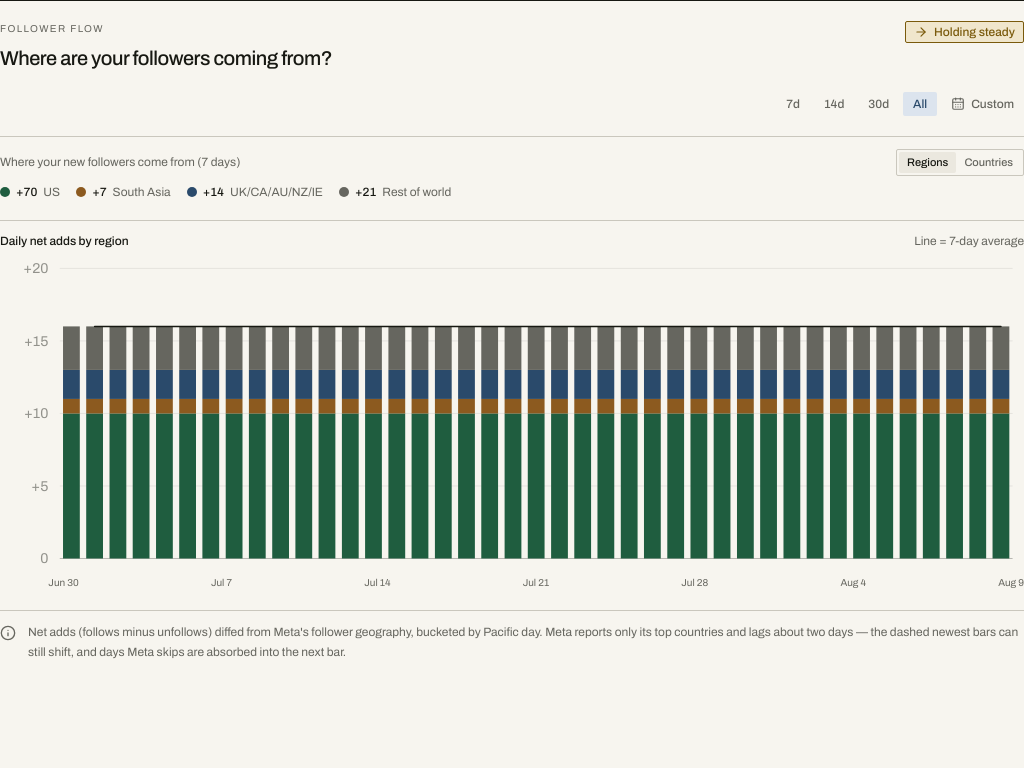
Test: Follower flow date filter › disables calendar days outside real coverage
This screenshot has width=1024, height=768.
Click the button "Custom" at (983, 104), box [941,92,1023,116]
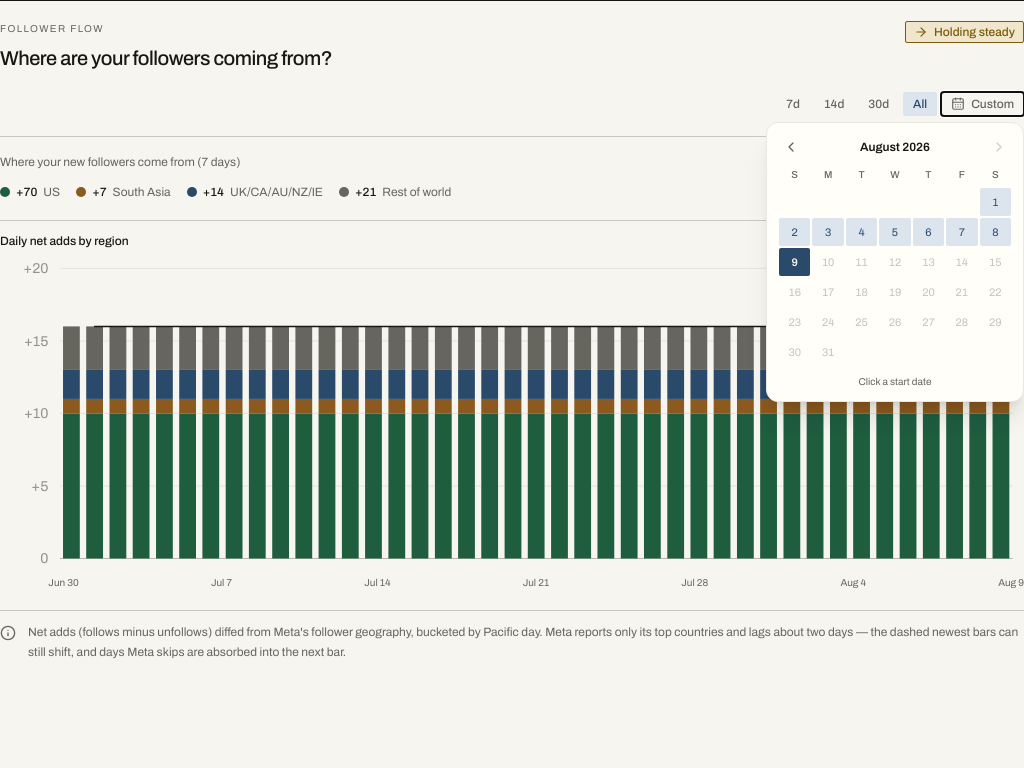
Check: the button named "2026-08-20" is disabled, box [913,278,944,306]
